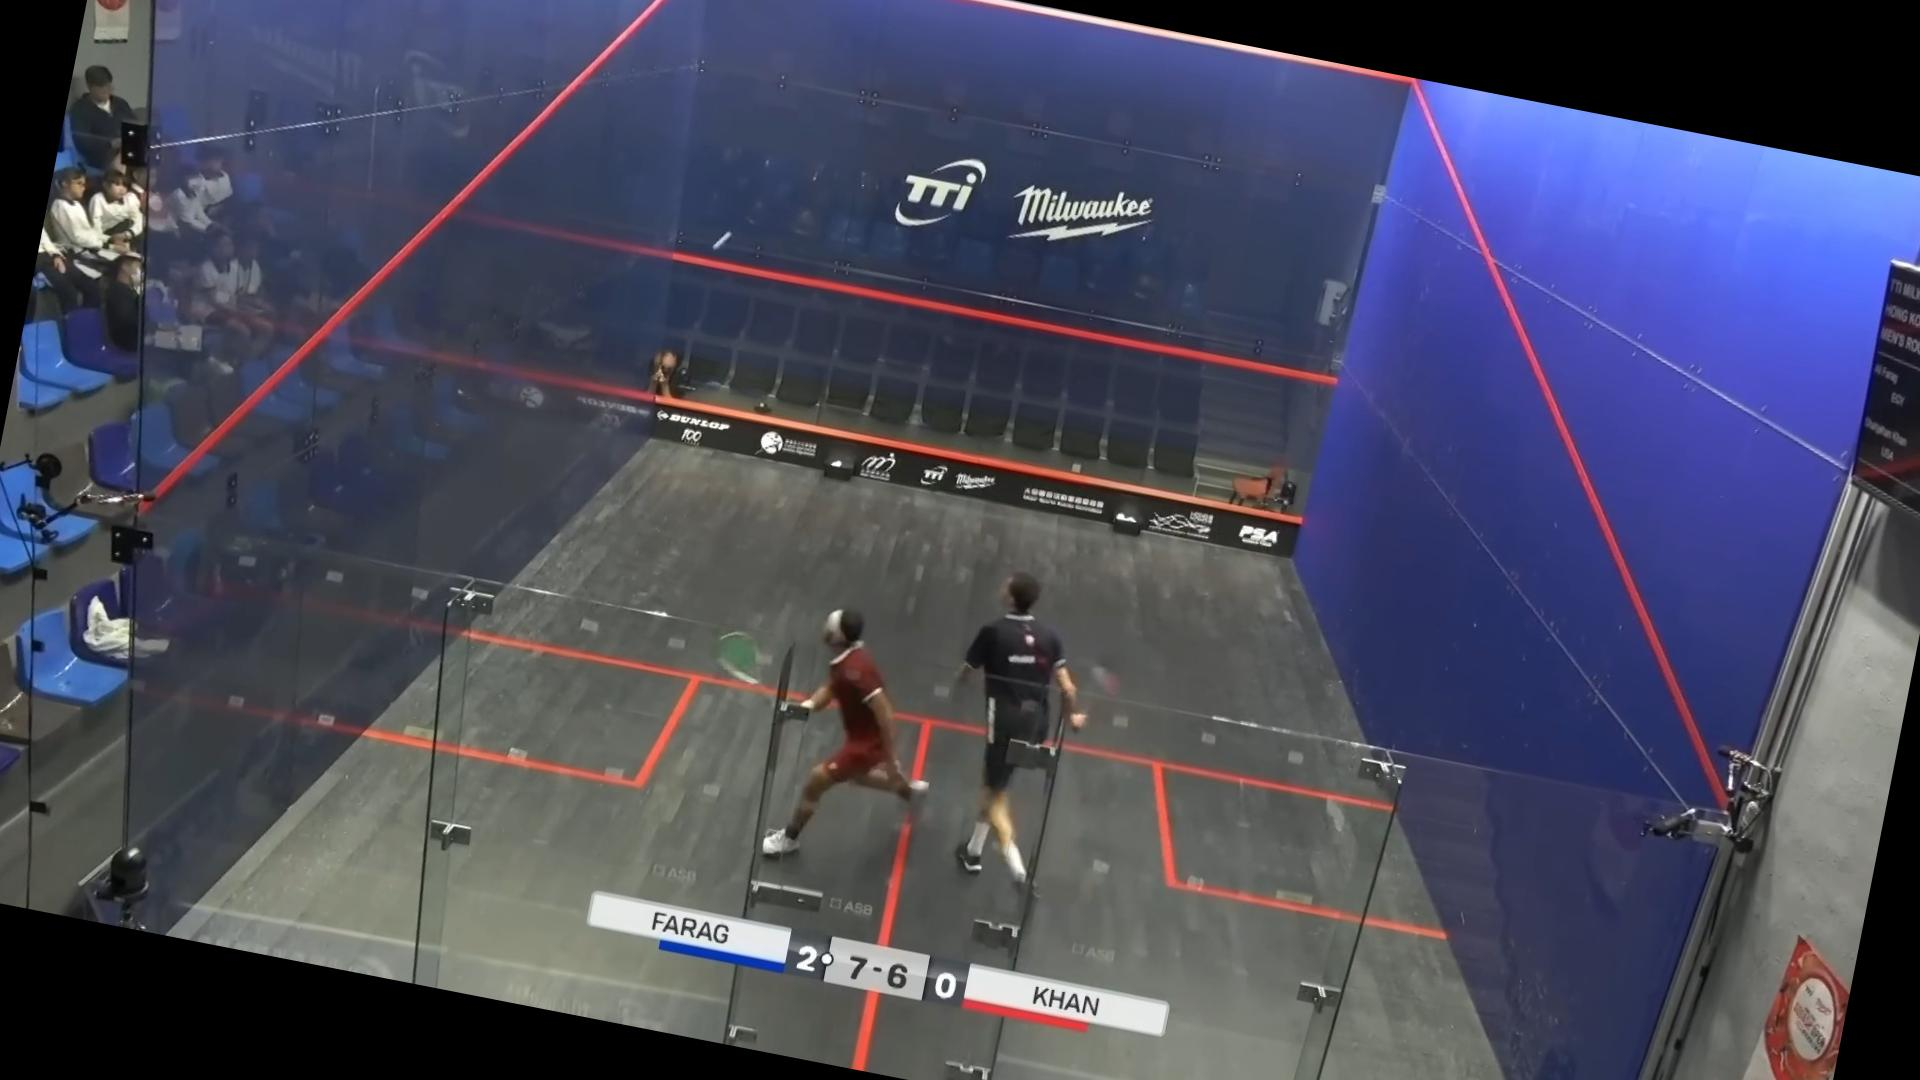Racket: (700, 621, 794, 708)
